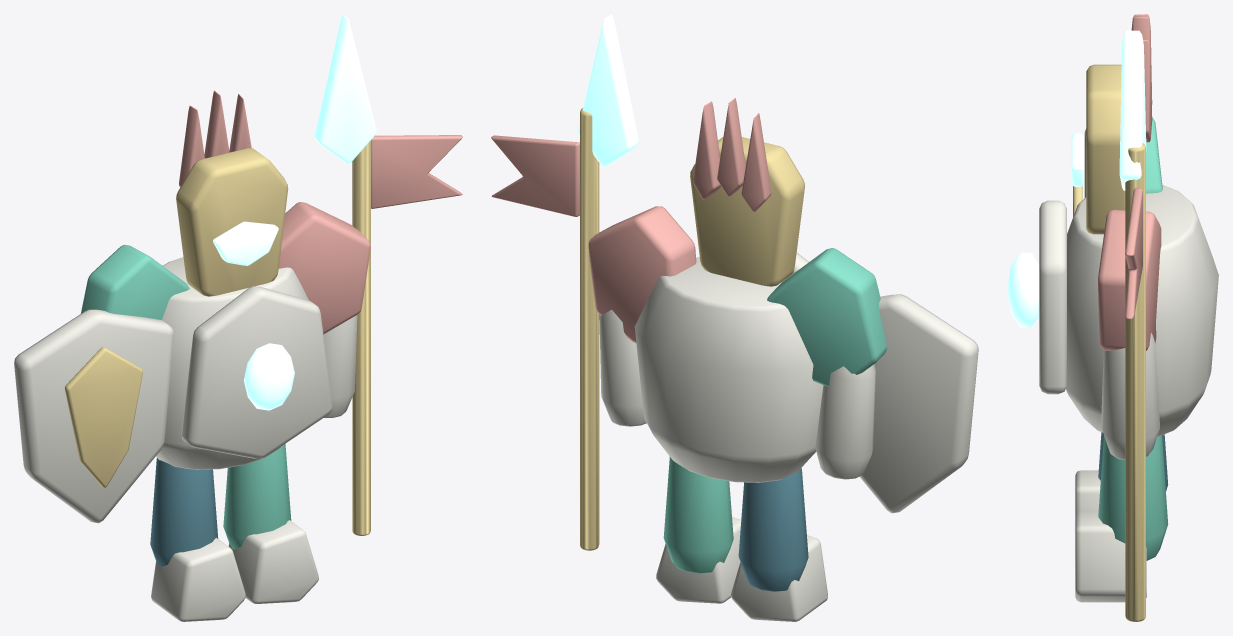
File: vault-sentinel-authored-v3.glb
3 views of the same model, side by side, from view 1: azimuth 30°, elevation 25°; view 2: azimuth 150°, elevation 25°; view 3: azimuth 270°, elevation 25° (orthographic). The views are drawn at different scales.
Visible parts, largest first — view 1: GB_CORE_SentinelTorso, GB_CORE_SentinelMask, GB_CORE_SentinelShoulderL, GB_CORE_SentinelShoulderR, GB_CORE_SentinelVisor, GB_CORE_SentinelSpear, GB_CORE_SentinelGreaveR, GB_CORE_SentinelCore; view 2: GB_CORE_SentinelTorso, GB_CORE_SentinelShoulderL, GB_CORE_SentinelShoulderR, GB_CORE_SentinelMask, GB_CORE_SentinelSpear, GB_CORE_SentinelGreaveR, GB_CORE_SentinelVisor; view 3: GB_CORE_SentinelTorso, GB_CORE_SentinelShoulderL, GB_CORE_SentinelSpear, GB_CORE_SentinelMask, GB_CORE_SentinelShoulderR, GB_CORE_SentinelVisor, GB_CORE_SentinelCore, GB_CORE_SentinelGreaveR.
Boxes of the visible parts, x1,y1,x2,y2 form: GB_CORE_SentinelTorso: (14, 257, 357, 621); GB_CORE_SentinelMask: (64, 148, 288, 487); GB_CORE_SentinelShoulderL: (179, 90, 462, 334); GB_CORE_SentinelShoulderR: (81, 244, 291, 549); GB_CORE_SentinelVisor: (213, 14, 376, 265); GB_CORE_SentinelSpear: (352, 140, 370, 535); GB_CORE_SentinelGreaveR: (150, 458, 218, 567); GB_CORE_SentinelCore: (243, 343, 294, 410); GB_CORE_SentinelTorso: (599, 252, 978, 621); GB_CORE_SentinelShoulderL: (491, 98, 771, 342); GB_CORE_SentinelShoulderR: (663, 248, 886, 573); GB_CORE_SentinelMask: (690, 137, 804, 286); GB_CORE_SentinelSpear: (580, 108, 599, 550); GB_CORE_SentinelGreaveR: (738, 468, 808, 591); GB_CORE_SentinelVisor: (577, 14, 638, 166); GB_CORE_SentinelTorso: (1039, 128, 1218, 602); GB_CORE_SentinelShoulderL: (1098, 14, 1161, 350); GB_CORE_SentinelSpear: (1125, 143, 1145, 621); GB_CORE_SentinelMask: (1073, 64, 1125, 234); GB_CORE_SentinelShoulderR: (1098, 118, 1168, 560); GB_CORE_SentinelVisor: (1071, 30, 1146, 190); GB_CORE_SentinelCore: (1007, 252, 1039, 327); GB_CORE_SentinelGreaveR: (1098, 432, 1168, 490).
Size of the model in its own units: 2.13 by 2.45 by 0.7699.
